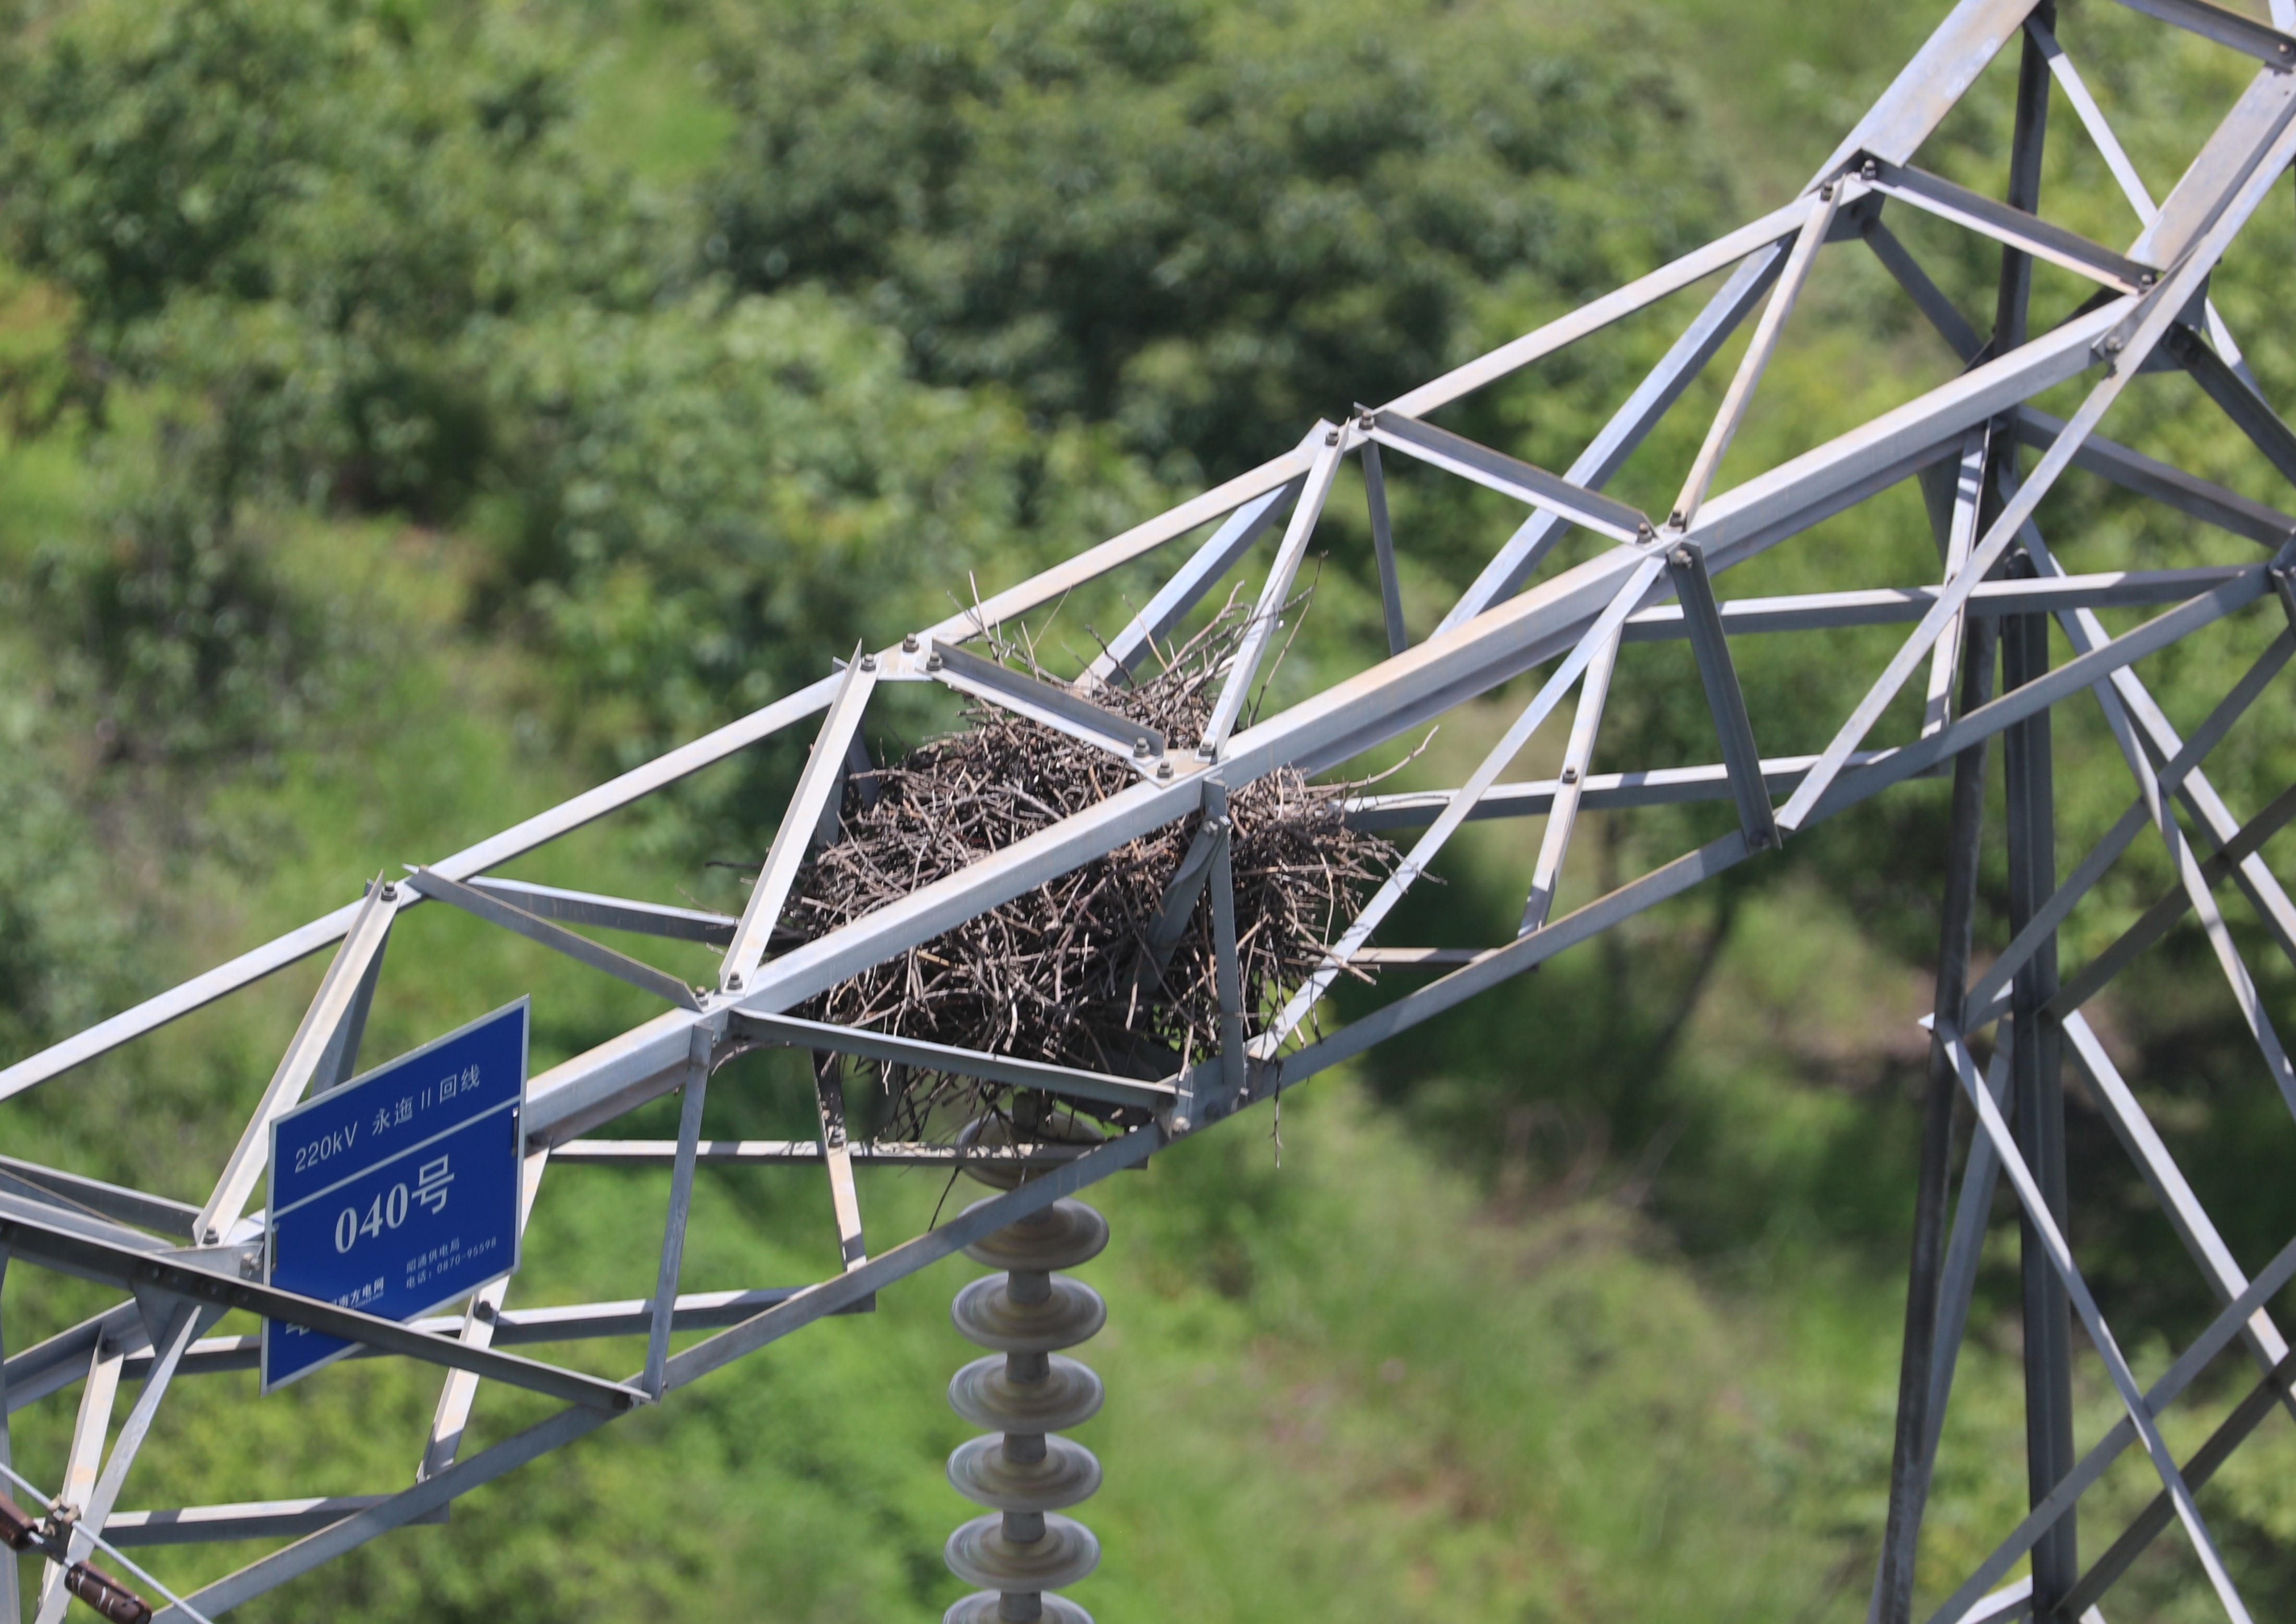niaowo: (780, 631, 1374, 1178)
